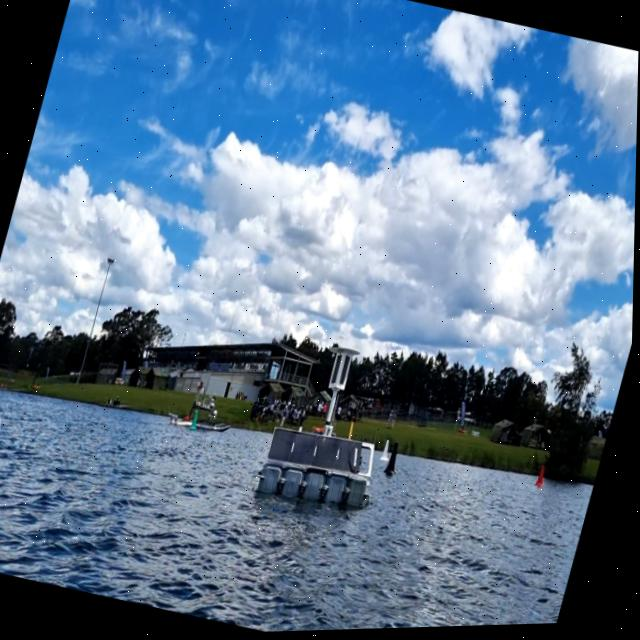led: (338, 355, 354, 389), (332, 356, 345, 387)
